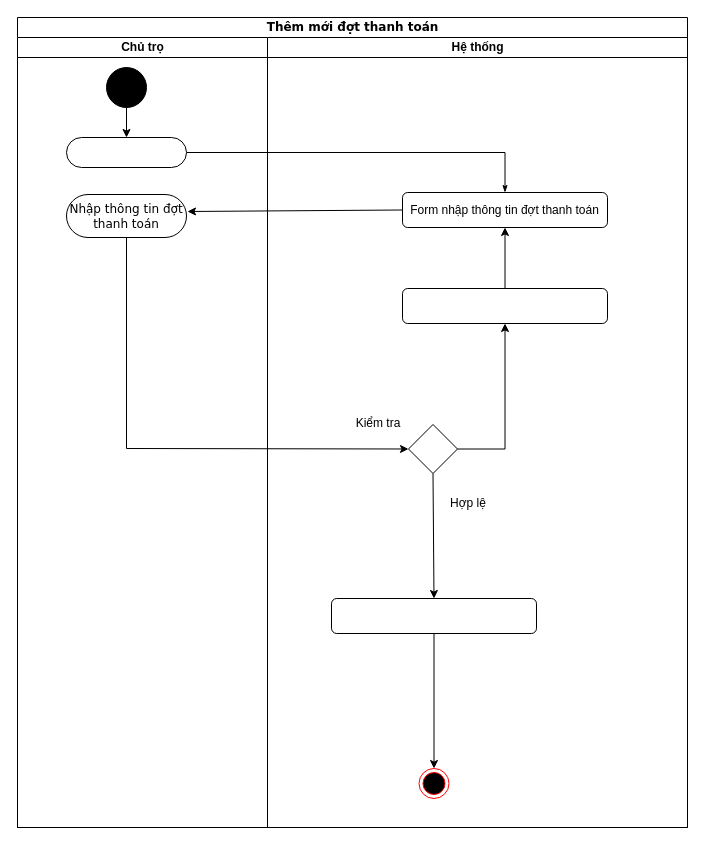
The diagram is 705 pixels wide and 845 high, and some of its shapes have lost their labels. Here are the shapes that lost their labels. From the top down, the centre of each, then its label:
[126,152]: Nhấn thêm mới thanh toán
[505,306]: Thông báo lỗi
[433,616]: Thông báo thành công
